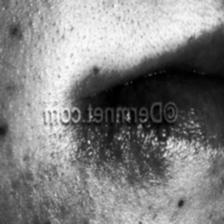Toxin: (2, 22, 18, 54), (153, 125, 169, 152)
